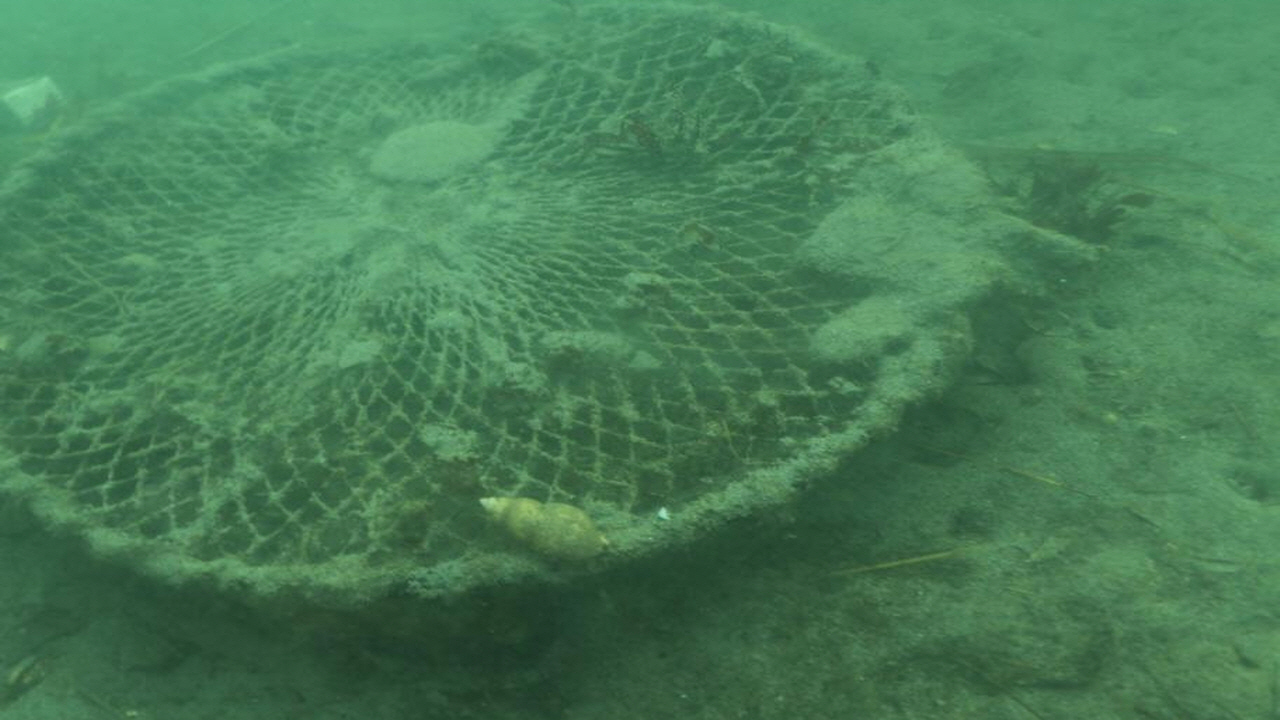circular fish trap: (0, 0, 916, 602)
